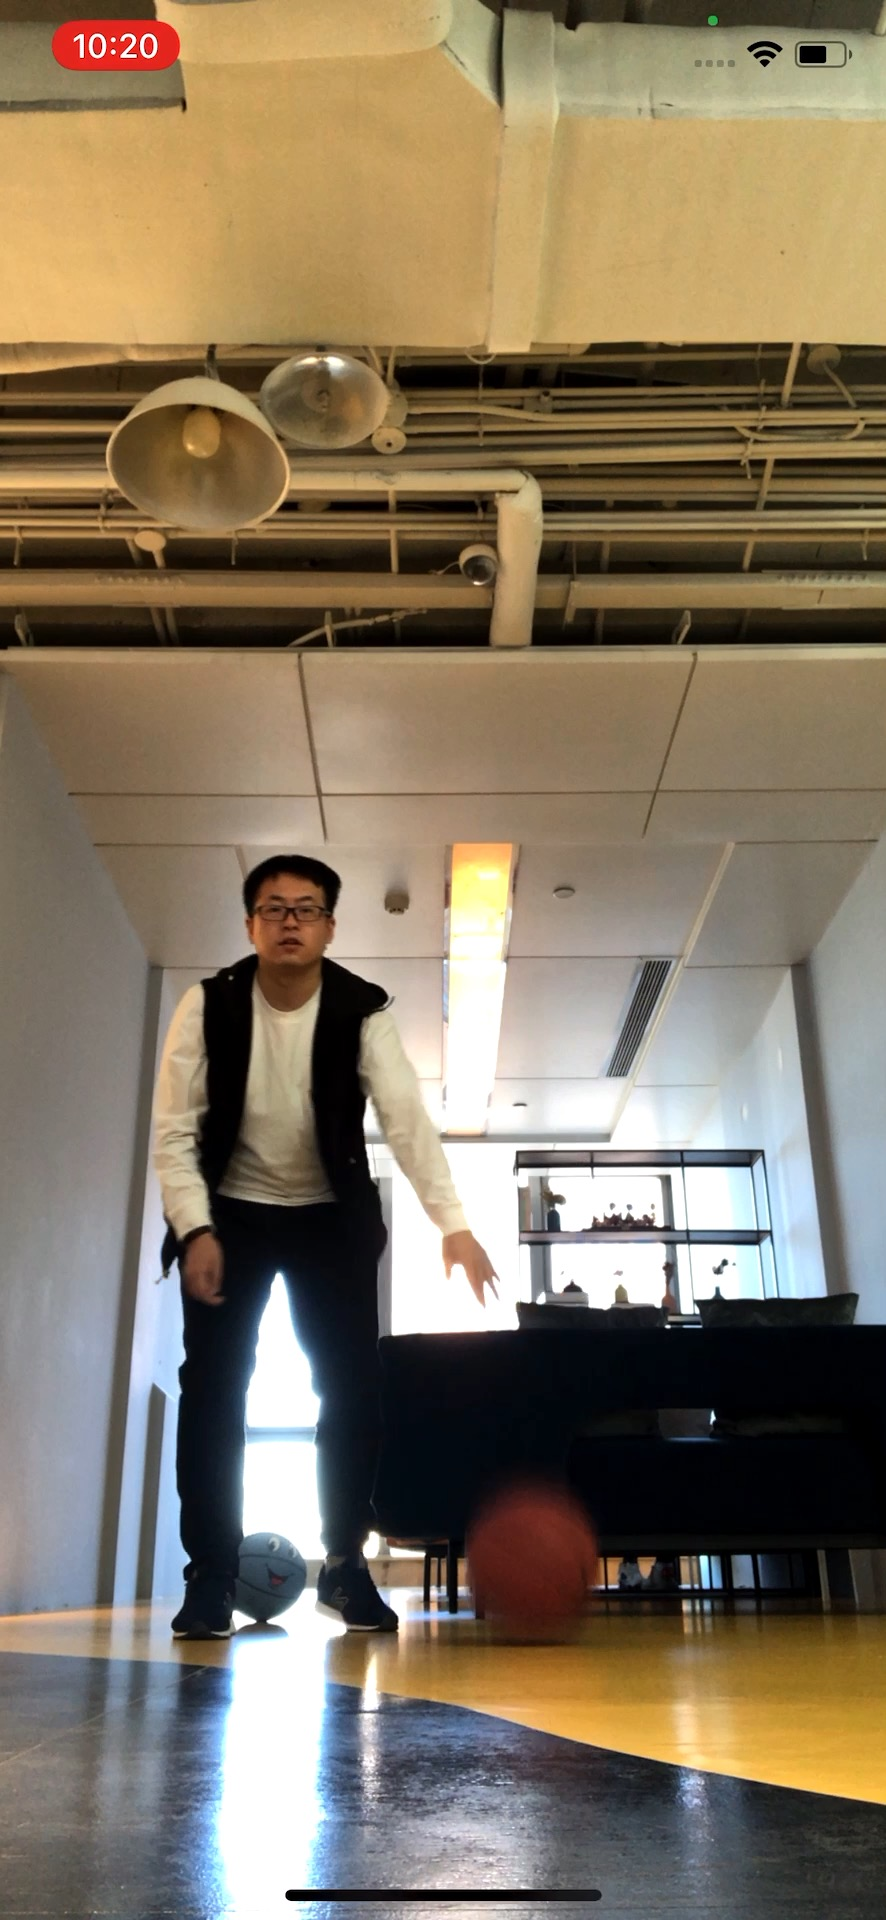ball: (463, 1498, 598, 1643)
